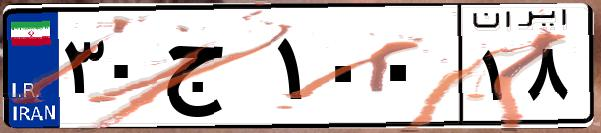0: (385, 28, 445, 110), (330, 28, 385, 110), (110, 28, 158, 98)
1: (270, 28, 330, 110), (475, 38, 525, 113)
3: (57, 26, 110, 100)
8: (525, 38, 570, 115)
ج: (158, 20, 270, 120)
